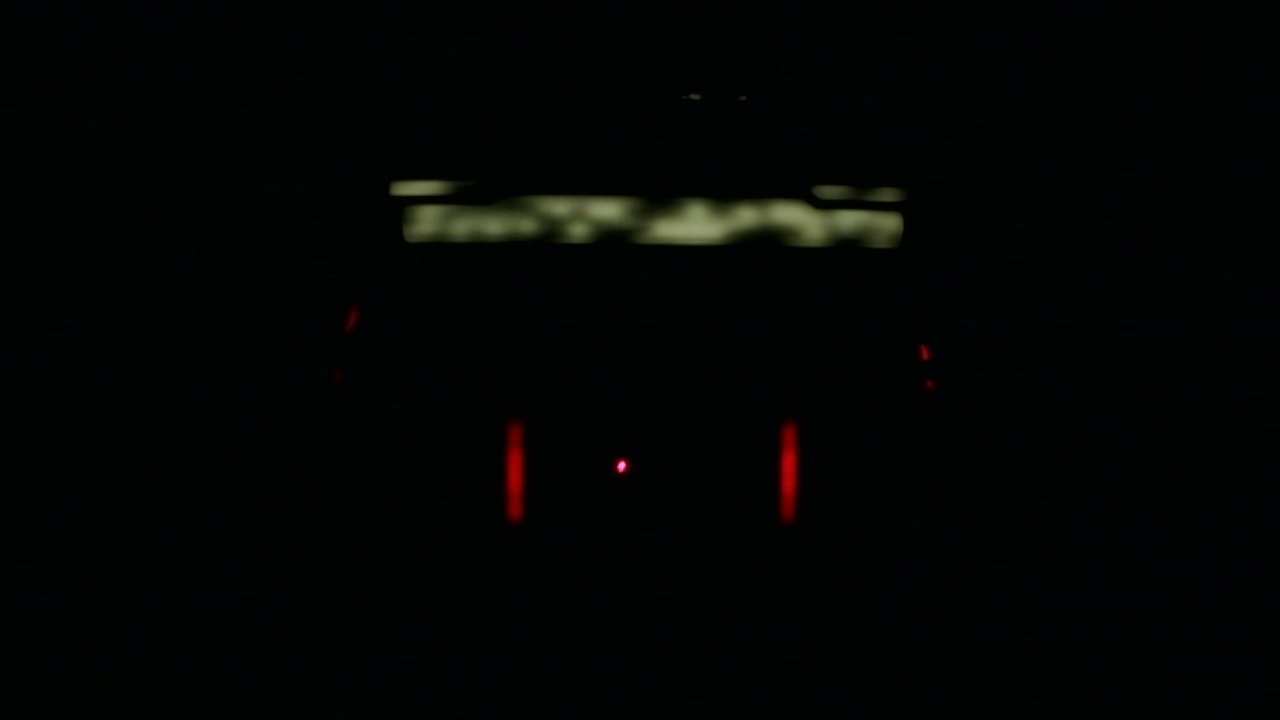lamp: (501, 420, 525, 522), (776, 420, 797, 523)
pair1: (502, 421, 800, 522)
